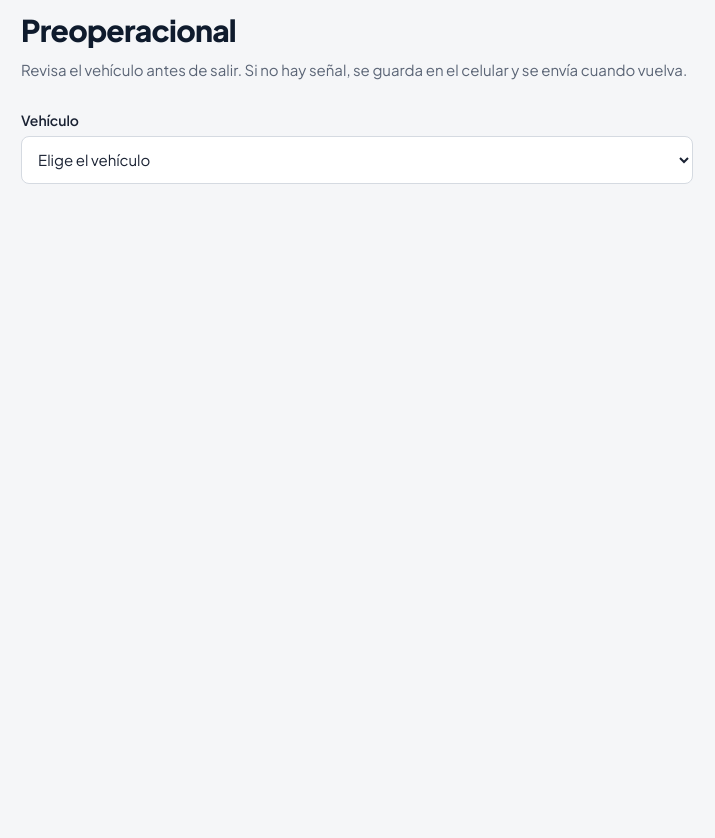
Preoperacional › guarda en el celular si no hay conexión y lo reenvía al volver la señal
Select "ABC123" in the dropdown labelled "Vehículo" at [357, 160], box [21,136,693,184]
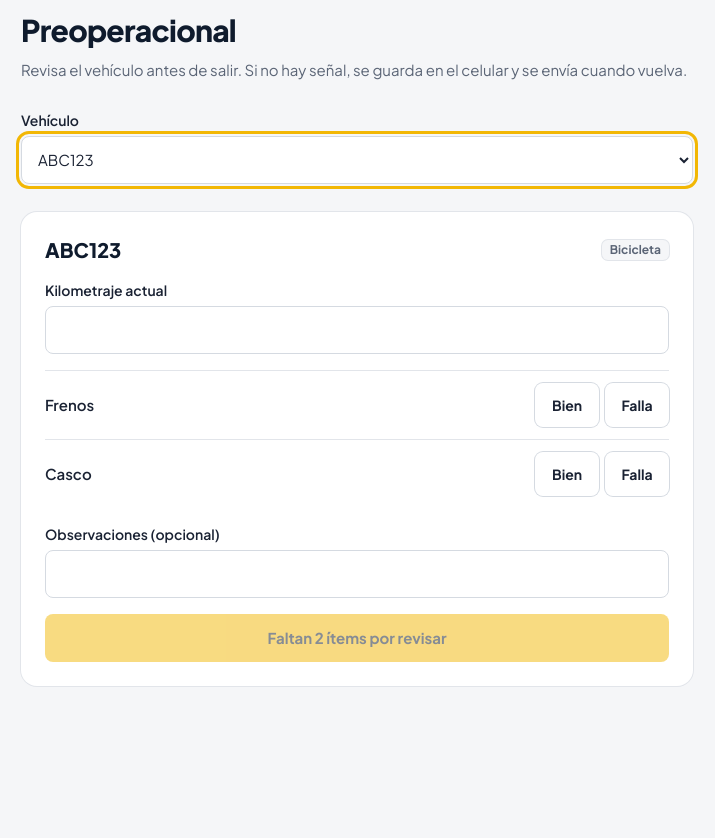
Click the button "Bien" in the row of "Frenos" at [567, 405], box [535,383,599,427]
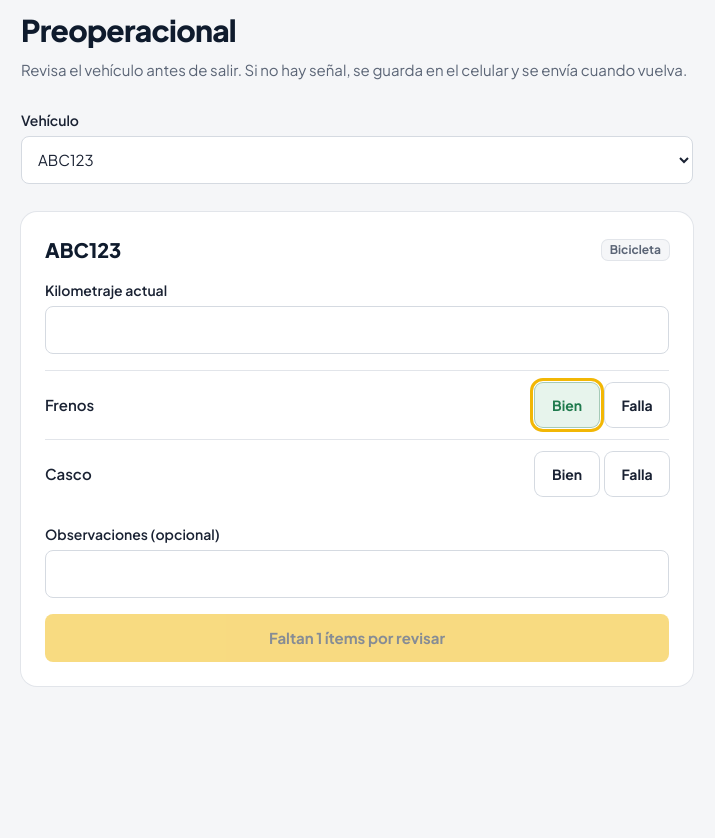
Click the button "Falla" in the row of "Casco" at [637, 474], box [605,452,669,496]
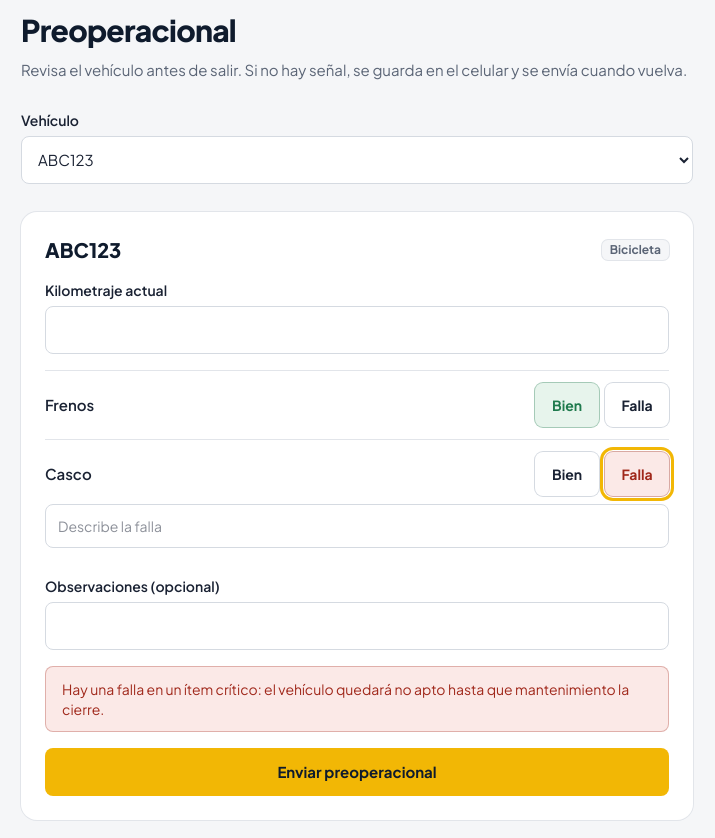
Check: the text "quedará no apto" is shown, box [62,680,629,718]
Click the button "Enviar preoperacional" at [357, 772], box [45,748,669,796]
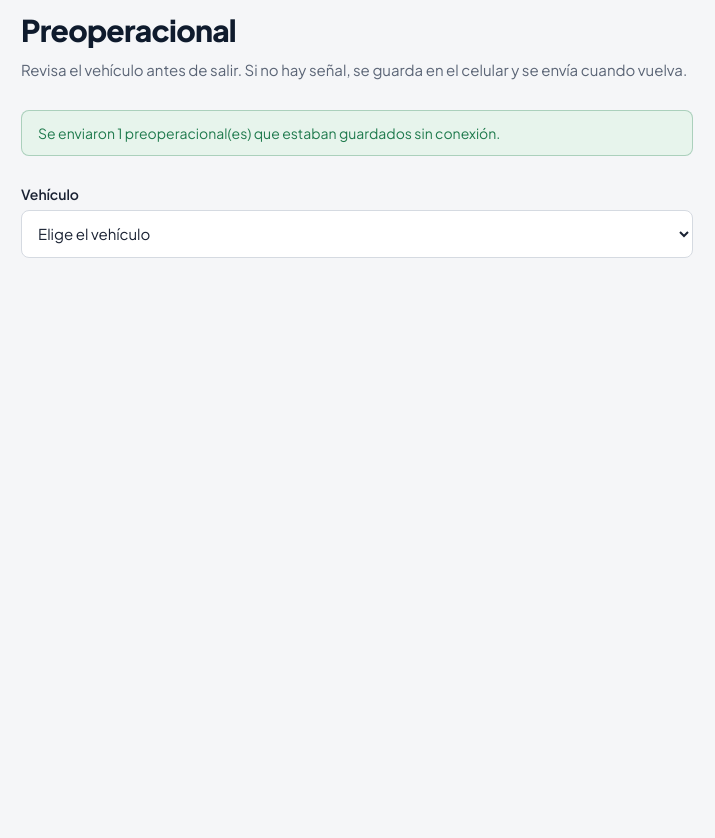
Check: the text "Sin conexión: el preoperacional de ABC123 quedó guardado" is shown, box [21,110,693,156]
